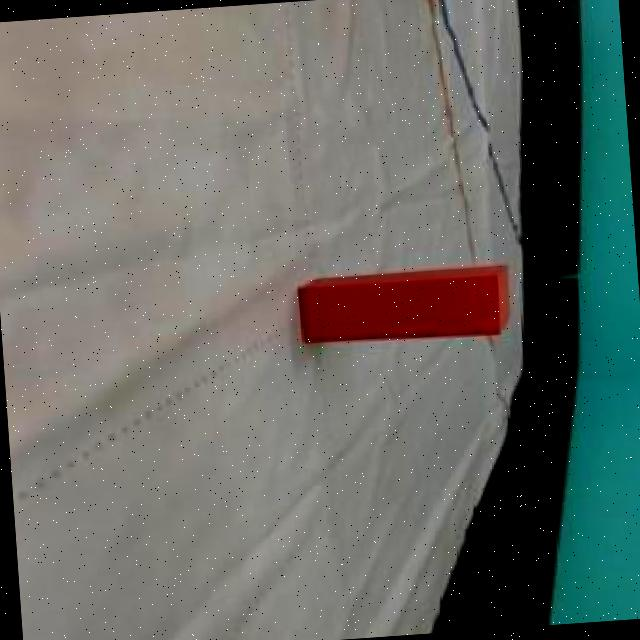redbox: (296, 266, 512, 350)
